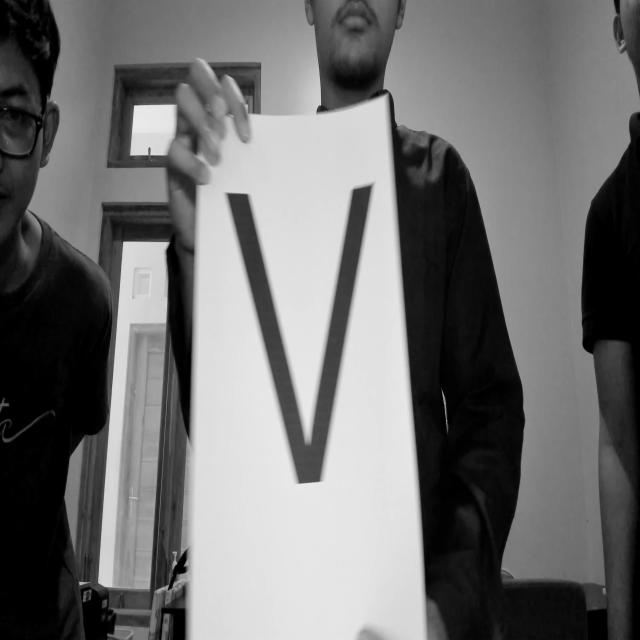v: (219, 163, 391, 507)
